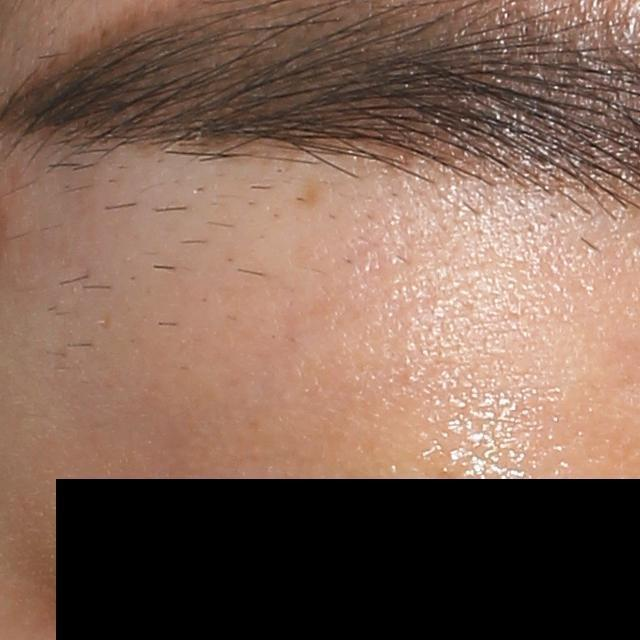melasma: (298, 173, 336, 214)
